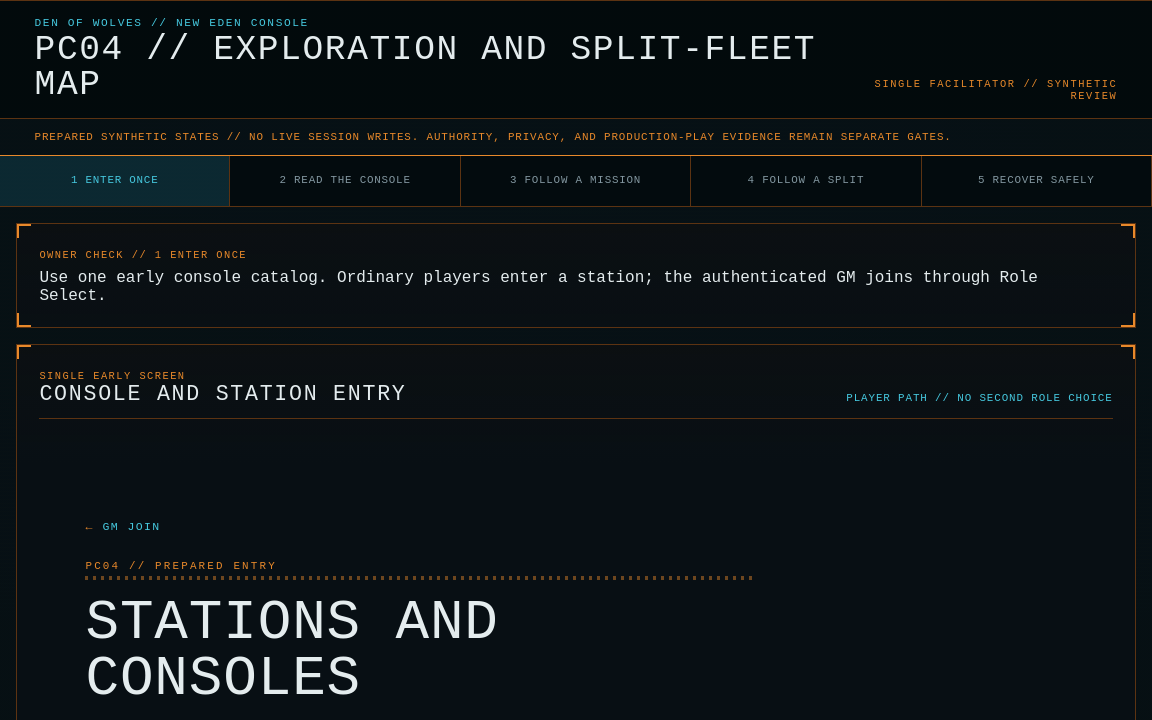
Test: shows stale and replay recovery without enabling a duplicate procedure
The image size is (1152, 720).
Click the button "5 Recover safely" at (1037, 181), box [922,156,1151,206]
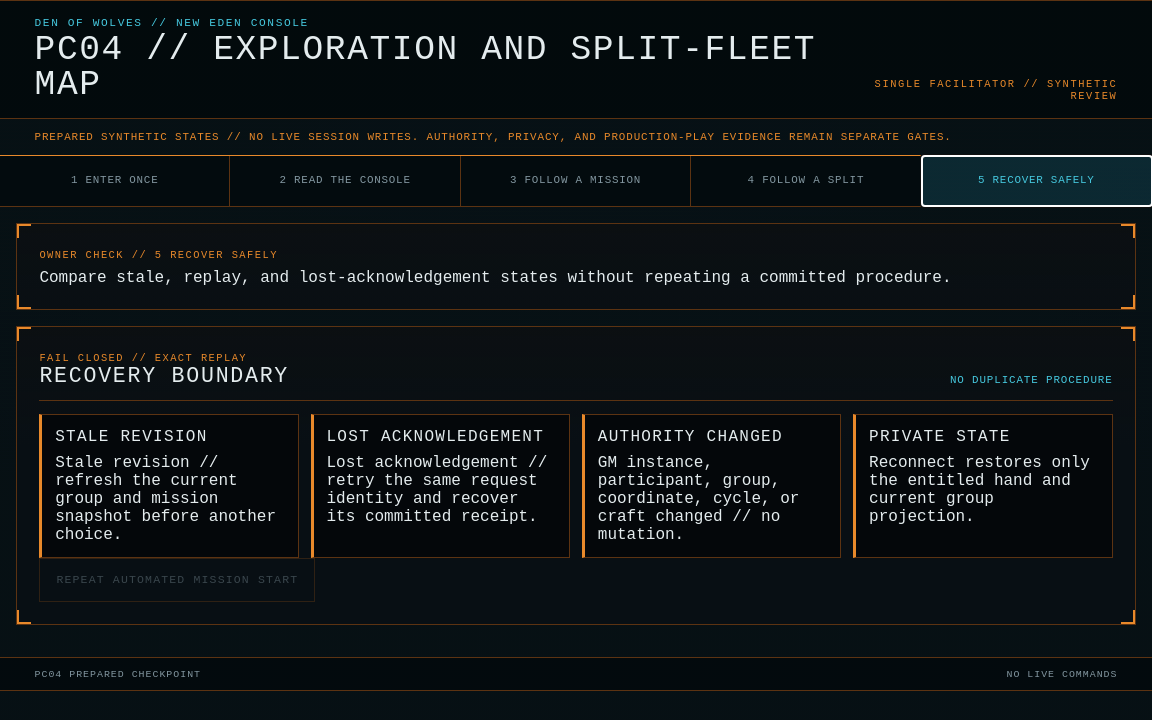
Check: the button "Repeat automated mission start" is disabled, box [39,558,315,602]
